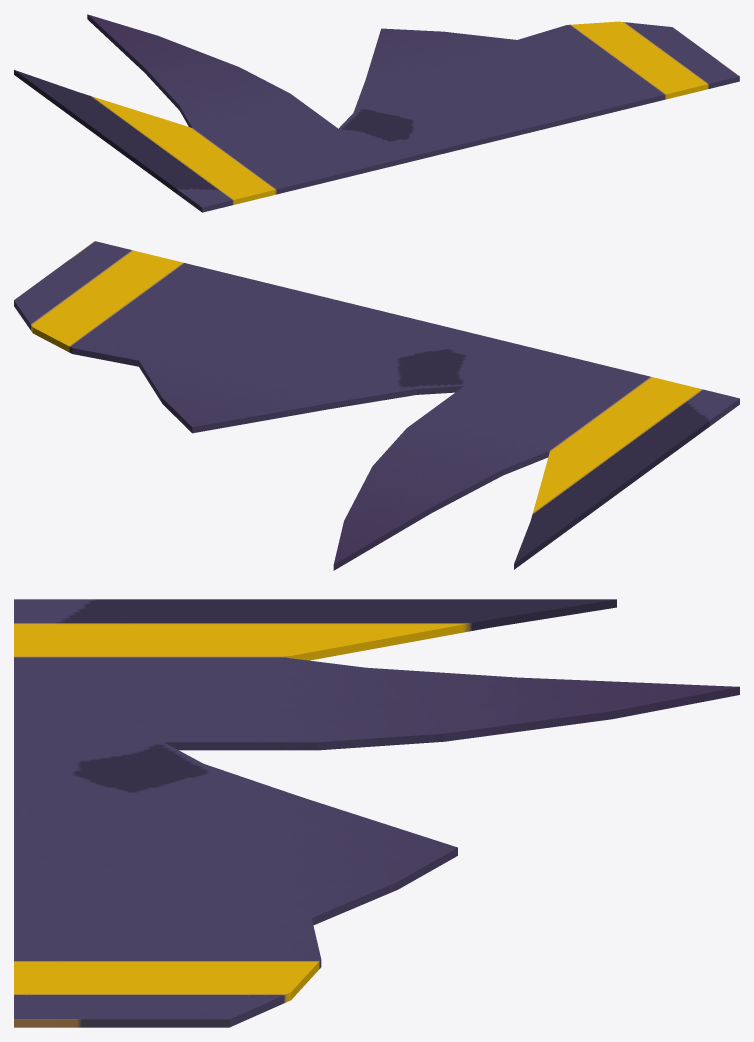
Rendered from Carpet 01 End 04.fbx.
3 views of the same model, one above another, from view 1: azimuth 30°, elevation 25°; view 2: azimuth 150°, elevation 25°; view 3: azimuth 270°, elevation 25° (orthographic). The views are drawn at different scales.
Visible parts, largest first — view 1: Carpet 01 End 04; view 2: Carpet 01 End 04; view 3: Carpet 01 End 04.
Boxes of the visible parts, x1,y1,x2,y2 form: Carpet 01 End 04: (14, 14, 739, 212); Carpet 01 End 04: (14, 241, 739, 570); Carpet 01 End 04: (14, 599, 739, 1027).
Size of the model in its own units: 167 by 1.5 by 122.
